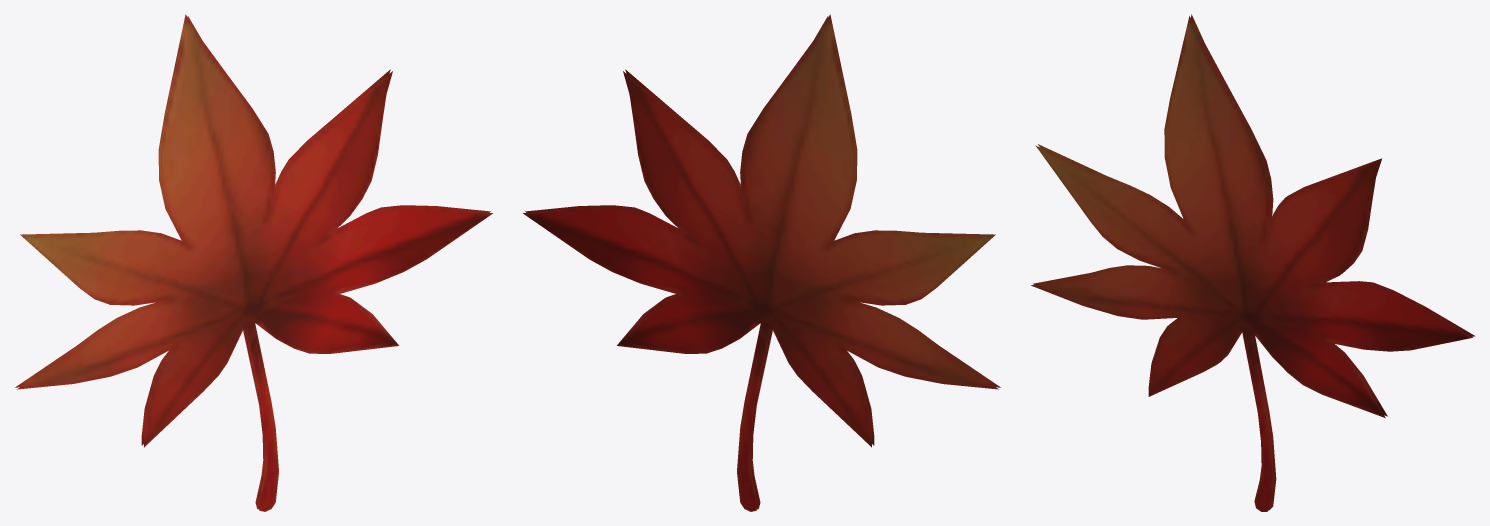
Rendered from SAVE.ICO.obj.
The picture shows the model from 3 angles, left to right: view 1: azimuth 30°, elevation 25°; view 2: azimuth 150°, elevation 25°; view 3: azimuth 330°, elevation 25°; orthographic projection. The views are drawn at different scales.
Size of the model in its own units: 3.52 by 3.64 by 0.0298.
Materials: 1 (1 with a texture image).
